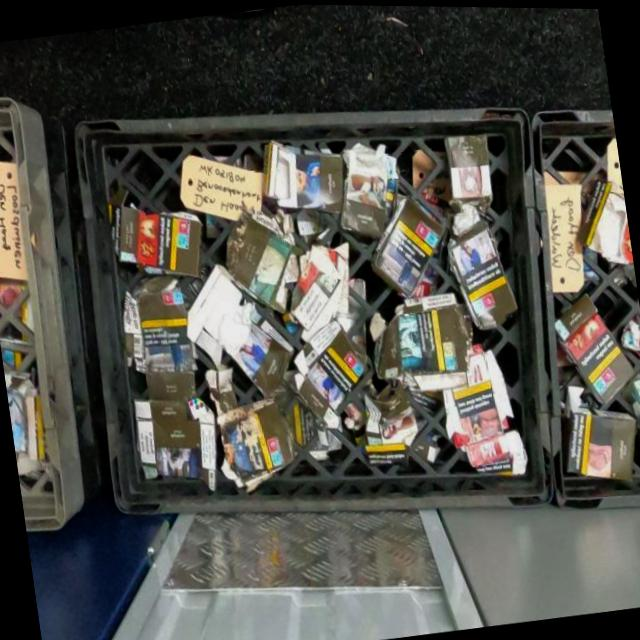Paper: (432, 336, 530, 486), (364, 288, 481, 401), (113, 270, 203, 408), (217, 199, 314, 323), (104, 176, 210, 289), (548, 283, 640, 411), (284, 313, 376, 433), (358, 189, 452, 302), (132, 390, 226, 501), (553, 375, 640, 490), (256, 130, 350, 225), (448, 219, 522, 335), (329, 135, 407, 244), (214, 393, 298, 487), (568, 175, 636, 279), (437, 130, 502, 238), (627, 368, 640, 482)
